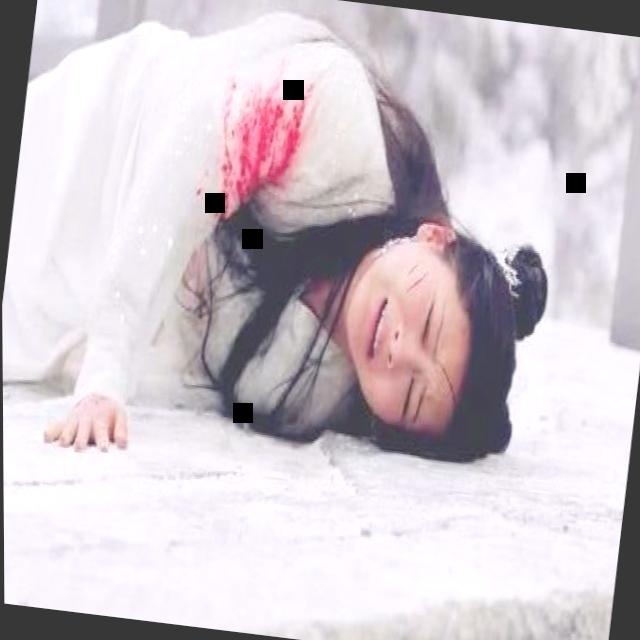Fall-Detected: (0, 0, 584, 510)
